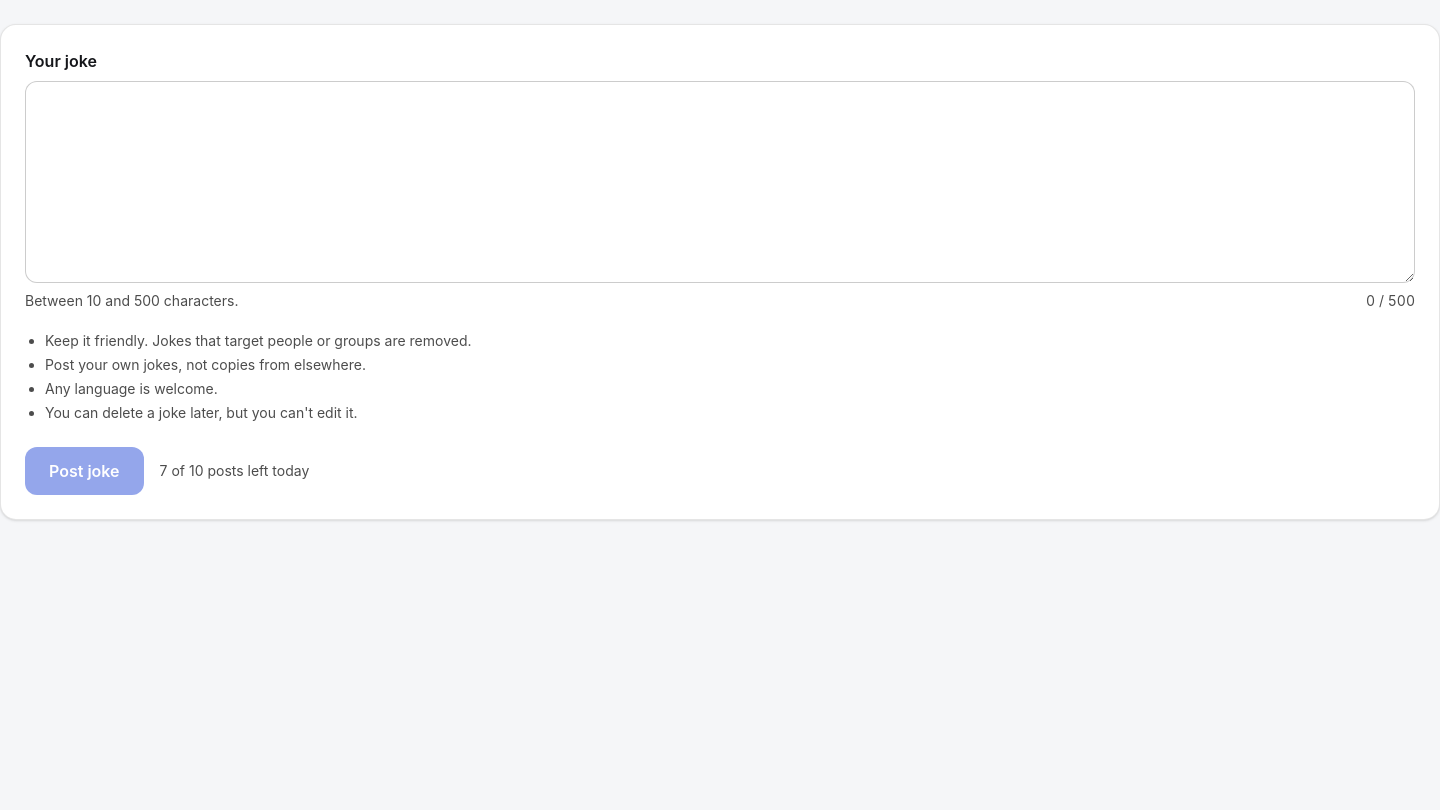
PostJokeForm › asks to sign in again when the session ended
This screenshot has width=1440, height=810.
Type "A joke about ten words" into the text box labelled "Your joke". click: (720, 182)
box: [25,81,1415,282]
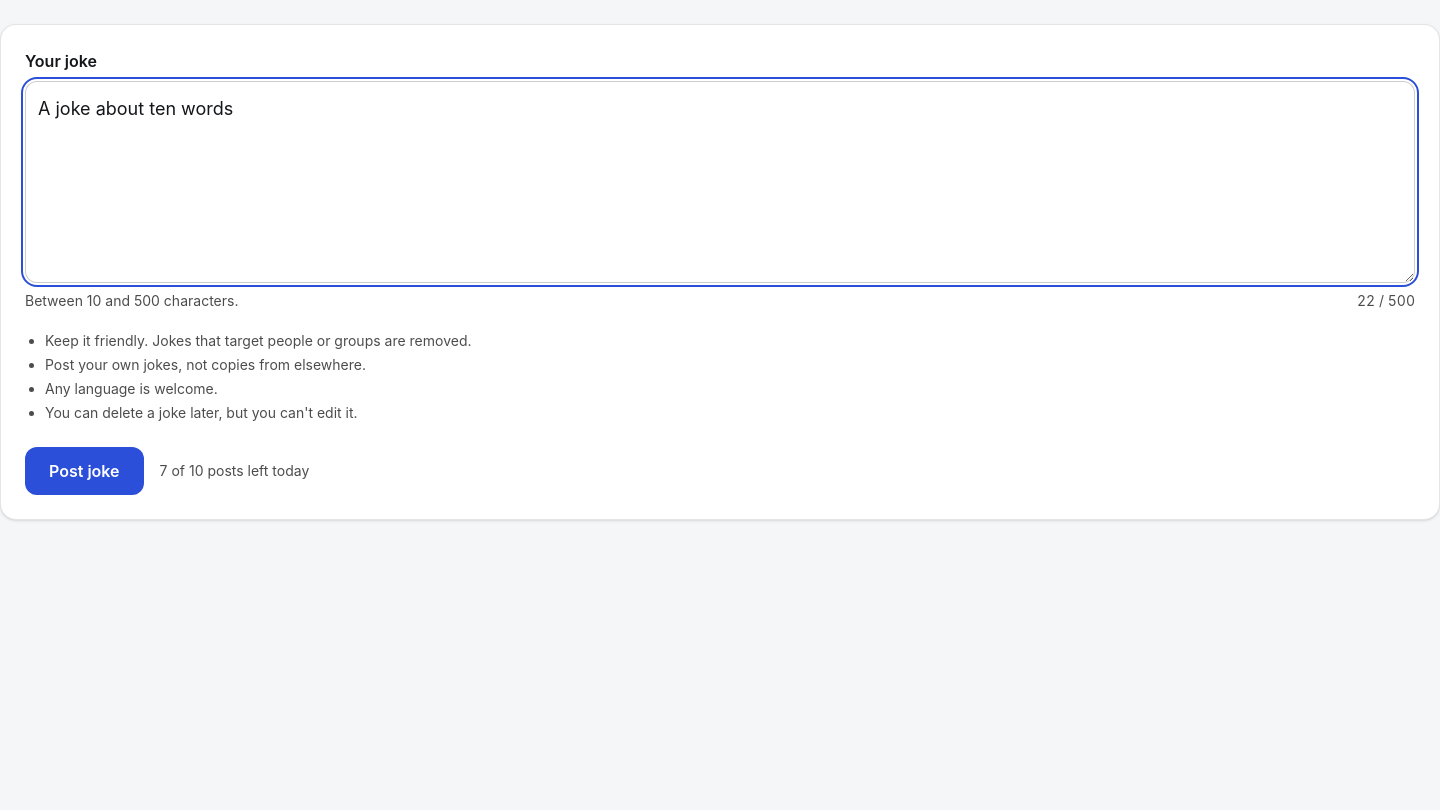
Click the button "Post joke". click: click(84, 470)
box: [25,446,144,494]
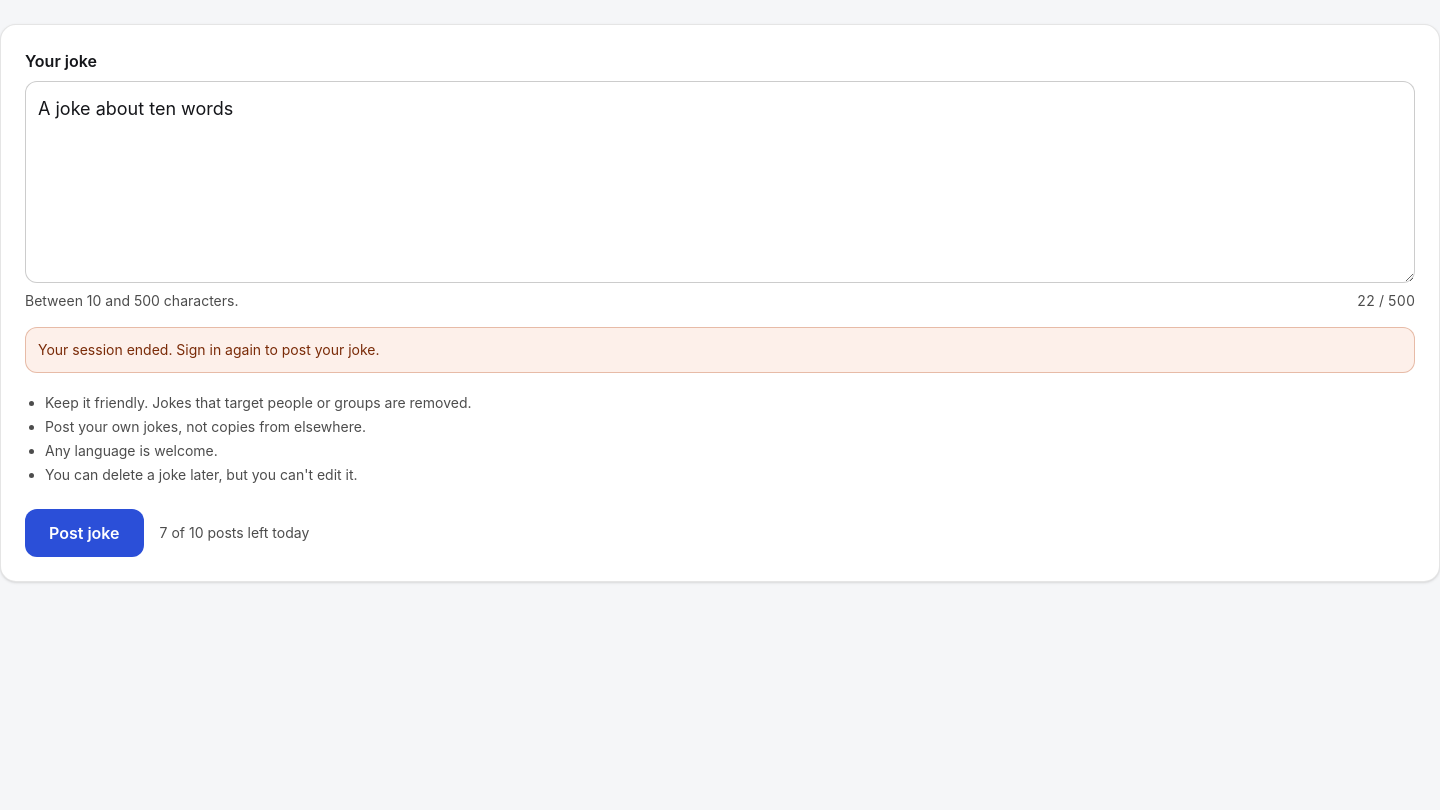
Check: the message shows "Sign in again", box [38,340,380,358]
